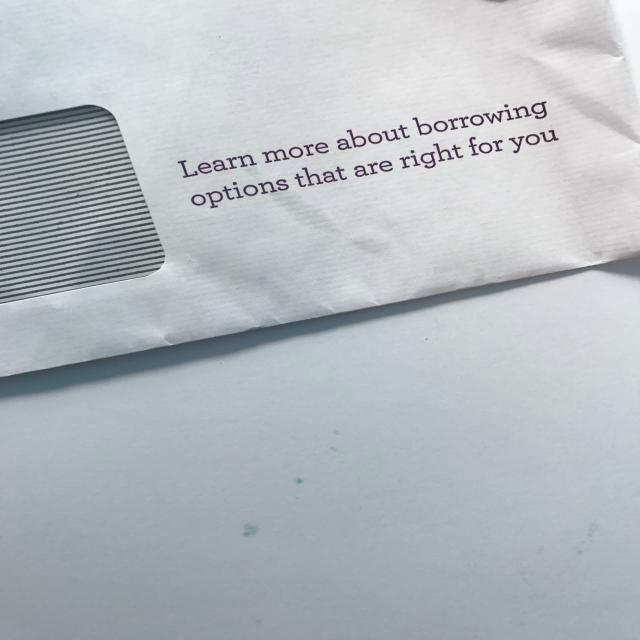paper: (0, 0, 640, 394)
